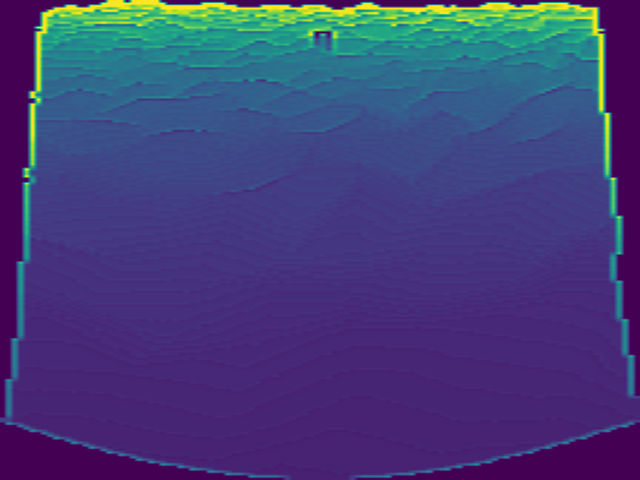car_0198: (311, 30, 334, 52)
